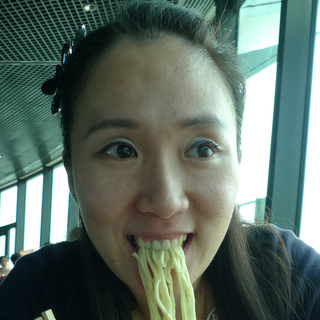eye: (88, 135, 143, 168), (175, 133, 228, 164)
